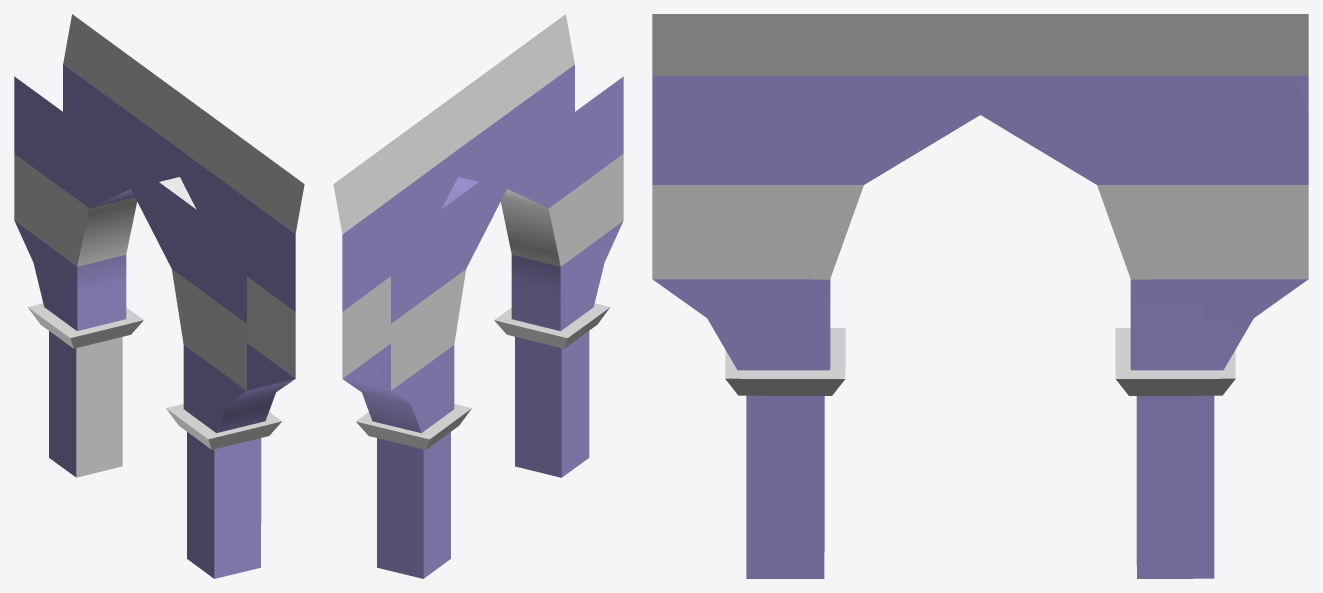
The model's file is Big Arch v2 Collider.fbx.
3 renders of one model, left to right at view 1: azimuth 30°, elevation 25°; view 2: azimuth 150°, elevation 25°; view 3: azimuth 270°, elevation 25°, orthographic. The views are drawn at different scales.
Visible parts, largest first — view 1: Big Arch v2 collider; view 2: Big Arch v2 collider; view 3: Big Arch v2 collider.
Boxes of the visible parts, x1,y1,x2,y2 form: Big Arch v2 collider: [14, 14, 304, 578]; Big Arch v2 collider: [333, 14, 623, 578]; Big Arch v2 collider: [652, 14, 1308, 578].
Bounding box in the file's own units: 161 × 844 × 877.
